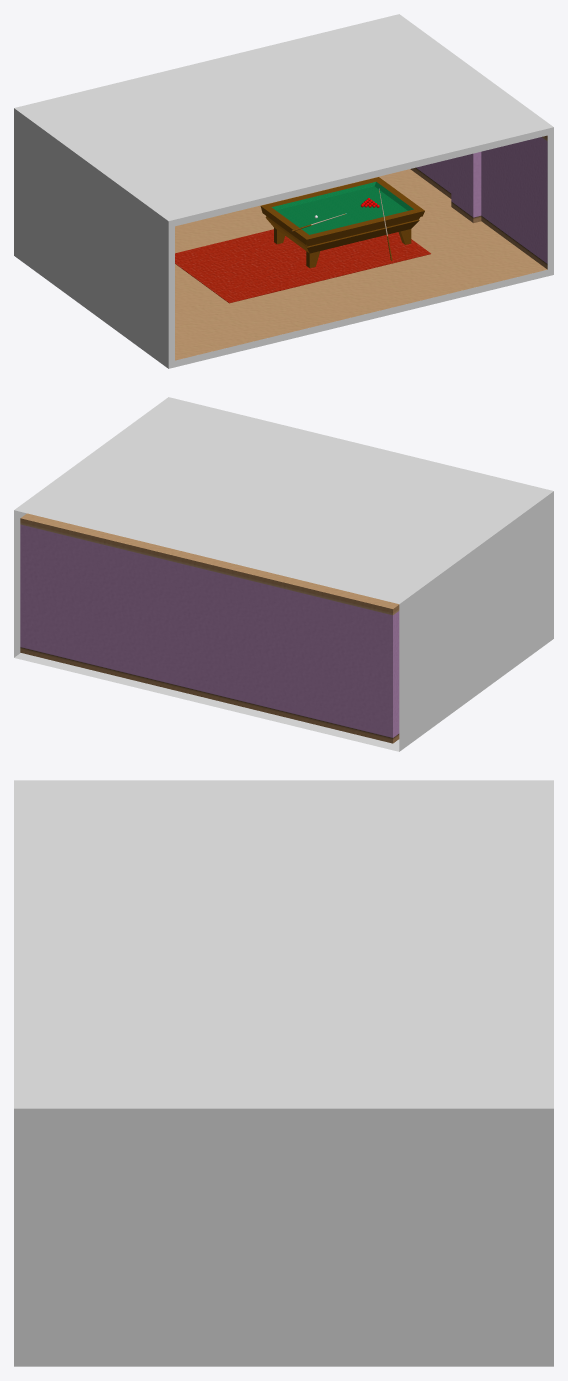
File: rmArcadeA1.fbx
The picture shows the model from 3 angles, top to bottom: view 1: azimuth 30°, elevation 25°; view 2: azimuth 150°, elevation 25°; view 3: azimuth 270°, elevation 25°; orthographic projection. The views are drawn at different scales.
Visible parts, largest first — view 1: rmArcExterior, rmArcade, arcPool; view 2: rmArcExterior, rmArcade; view 3: rmArcExterior.
Boxes of the visible parts, x1,y1,x2,y2 form: rmArcExterior: [14, 14, 553, 368]; rmArcade: [175, 135, 547, 360]; arcPool: [260, 177, 424, 267]; rmArcExterior: [14, 397, 553, 751]; rmArcade: [20, 513, 399, 743]; rmArcExterior: [14, 780, 553, 1366].
Bounding box in the file's own units: 99.91 × 36.59 × 69.41.
Materials: 5 (5 with a texture image).
